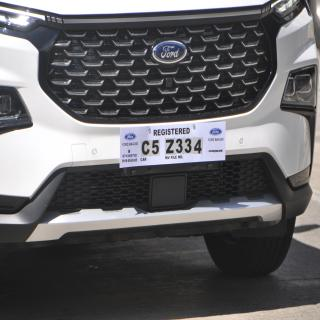license: (121, 122, 227, 169)
